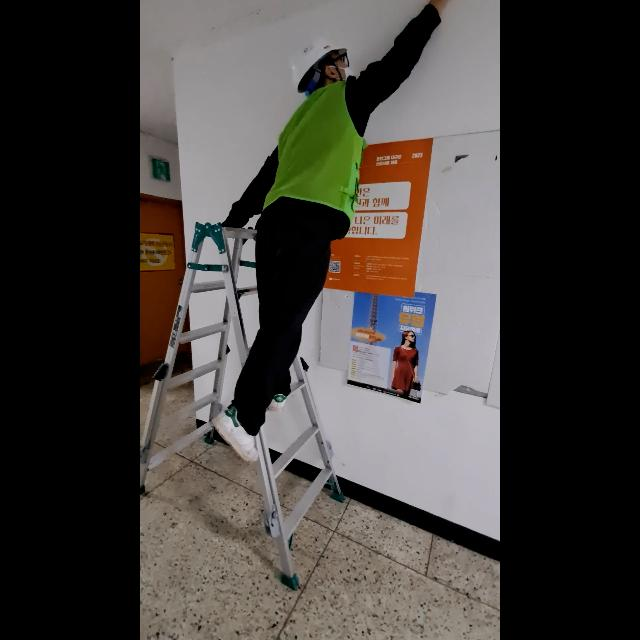hard hat: (140, 219, 346, 596)
